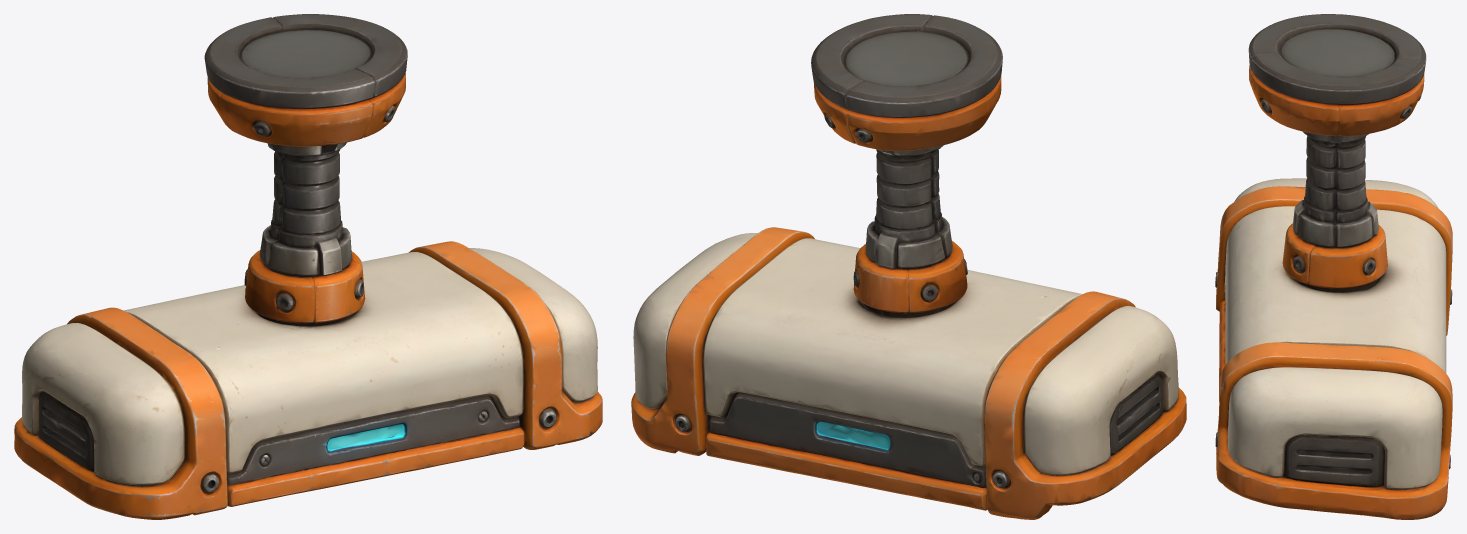
The model's file is futuristic ceiling lamp 3d model.glb.
The picture shows the model from 3 angles, left to right: view 1: azimuth 30°, elevation 25°; view 2: azimuth 150°, elevation 25°; view 3: azimuth 270°, elevation 25°; orthographic projection. The views are drawn at different scales.
Visible parts, largest first — view 1: tripo_node_c2bcc32b-a3b3-445f-8d4e-7a9c15d57176; view 2: tripo_node_c2bcc32b-a3b3-445f-8d4e-7a9c15d57176; view 3: tripo_node_c2bcc32b-a3b3-445f-8d4e-7a9c15d57176.
Part boxes in pixels (x1,y1,x2,y2): tripo_node_c2bcc32b-a3b3-445f-8d4e-7a9c15d57176: (14,14,602,519); tripo_node_c2bcc32b-a3b3-445f-8d4e-7a9c15d57176: (631,14,1186,519); tripo_node_c2bcc32b-a3b3-445f-8d4e-7a9c15d57176: (1215,14,1452,519).
Size of the model in its own units: 1 by 0.8059 by 0.4642.
Materials: 1 (1 with a texture image).
